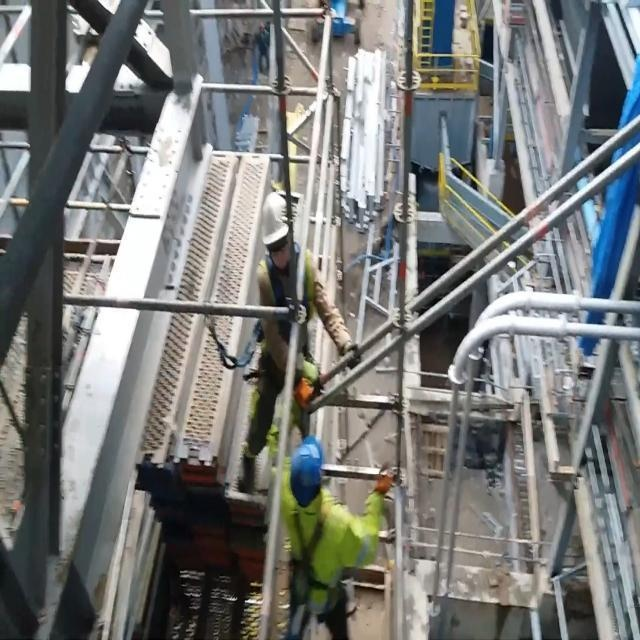Arnes_seguridad: (259, 247, 312, 383), (290, 491, 335, 616)
